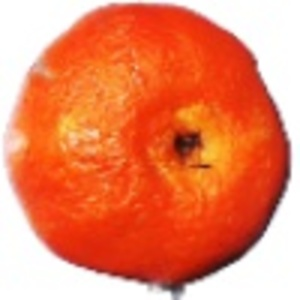tangerina: (3, 2, 294, 300)
